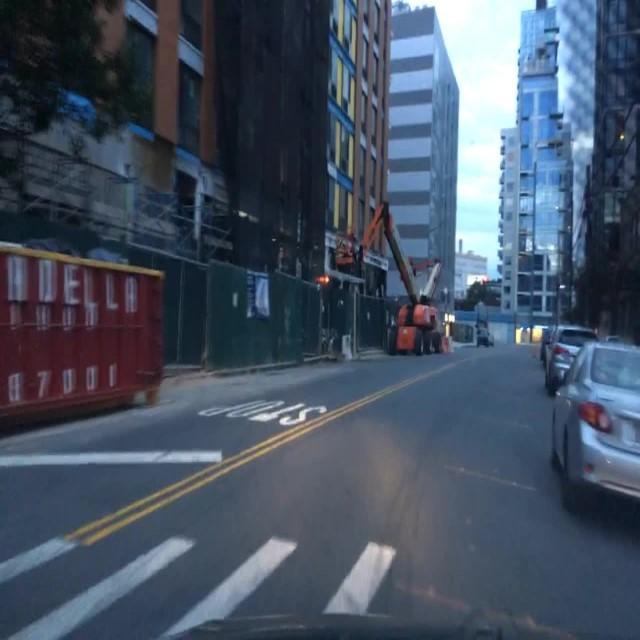normal: (536, 313, 640, 529)
